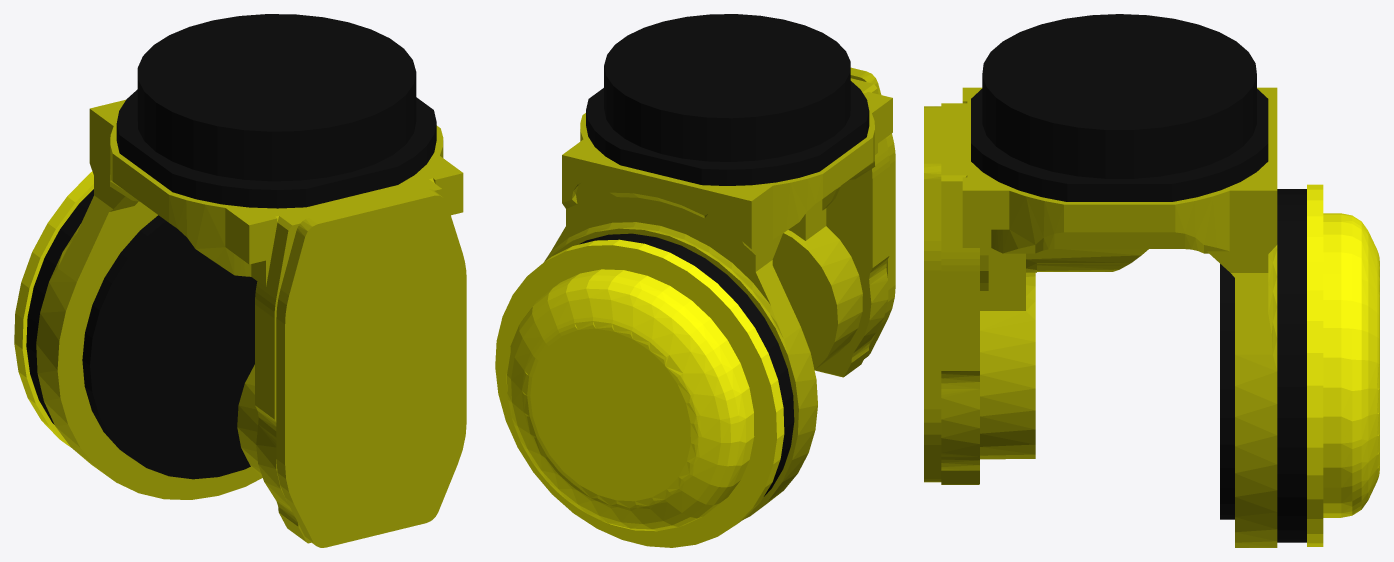
3 renders of one model, left to right at view 1: azimuth 30°, elevation 25°; view 2: azimuth 150°, elevation 25°; view 3: azimuth 270°, elevation 25°, orthographic. The views are drawn at different scales.
Visible parts, largest first — view 1: node; view 2: node; view 3: node.
Part boxes in pixels (bbox=[...]): node: bbox=[14, 14, 466, 547]; node: bbox=[495, 14, 895, 547]; node: bbox=[924, 14, 1379, 547].
Bounding box in the file's own units: 246 × 341 × 306.
